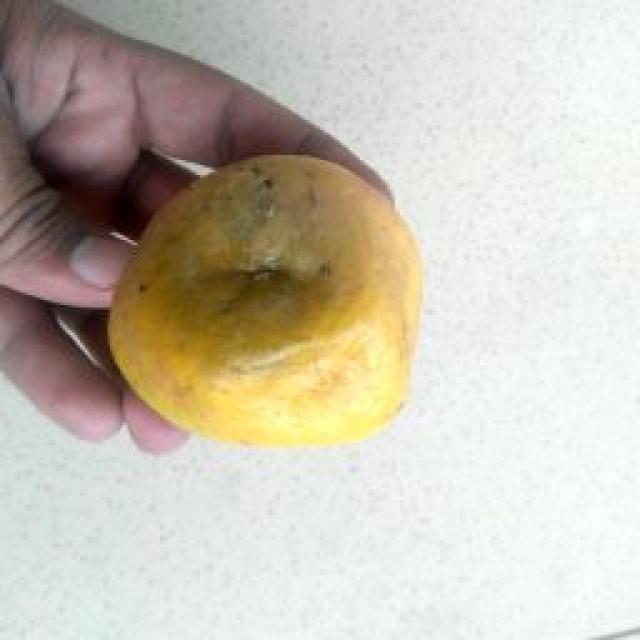Bad_Orange: (110, 155, 421, 444)
